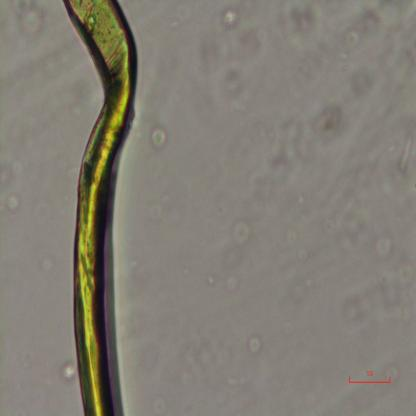Background material: (274, 73, 366, 168), (201, 6, 267, 104), (347, 253, 416, 330), (182, 326, 230, 386), (324, 191, 370, 251), (345, 9, 385, 56), (285, 1, 323, 48), (275, 214, 307, 266), (12, 0, 50, 41), (221, 220, 250, 271), (395, 134, 416, 175), (369, 227, 396, 258), (148, 122, 171, 152), (38, 250, 56, 286), (61, 356, 80, 383), (248, 333, 264, 358), (3, 190, 23, 210), (225, 276, 243, 296), (204, 277, 216, 292)
Microfibre: (62, 1, 138, 415)
